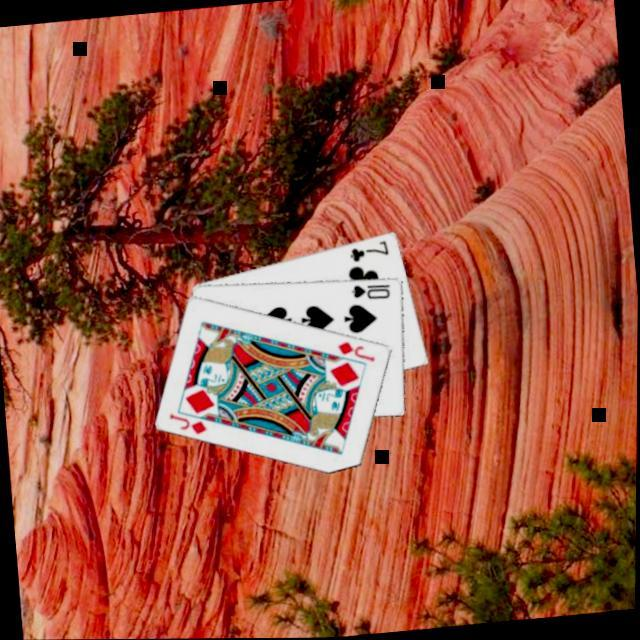10S: (346, 280, 392, 306)
7C: (343, 238, 391, 267)
JD: (332, 337, 376, 370), (164, 408, 208, 441)
